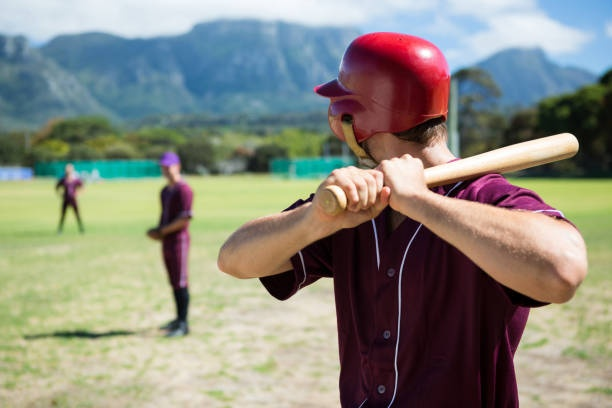bita: (317, 132, 581, 209)
